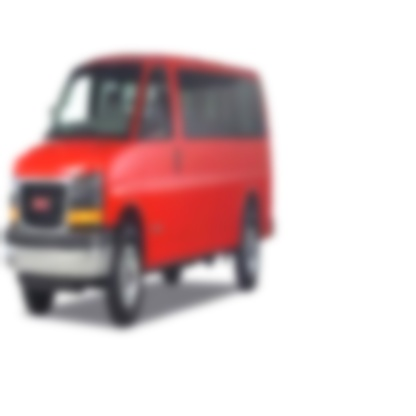Vehicle: (5, 56, 275, 330)
